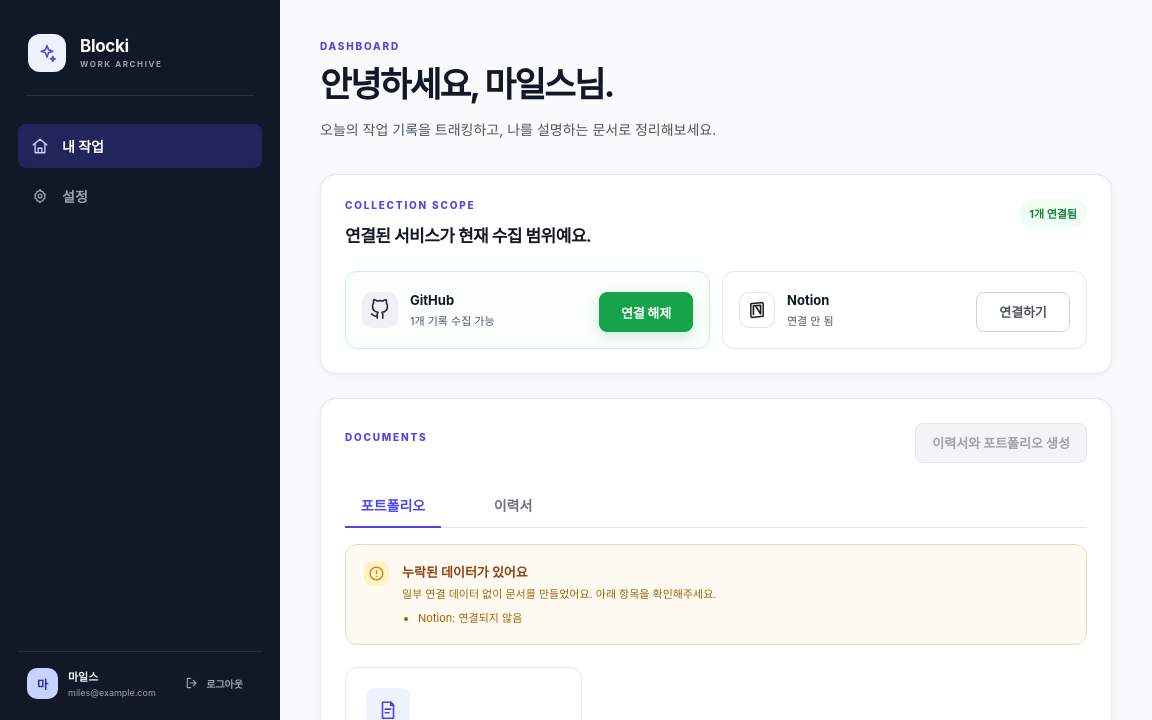
AppShell › 내 작업과 설정을 URL로 전환하고 명시적인 로그아웃을 제공한다
This screenshot has width=1152, height=720.
Expected: the text "Blocki" is shown, [80, 36, 129, 56]
Expected: the text "GitHub" is shown, [410, 292, 454, 308]
Click the button "설정" at (140, 196), box [18, 174, 262, 218]
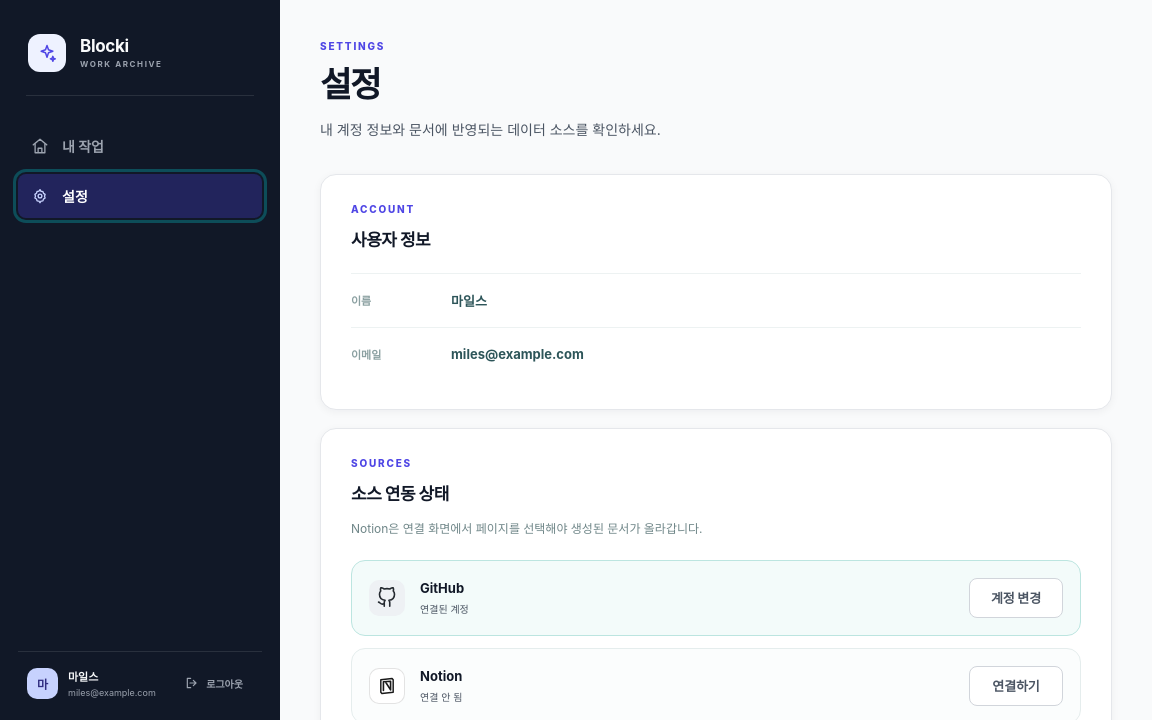
Expected: the heading "설정" is shown, [320, 64, 380, 105]
Expected: the heading "사용자 정보" is shown, [351, 230, 430, 250]
Expected: the heading "소스 연동 상태" is shown, [351, 484, 449, 504]
